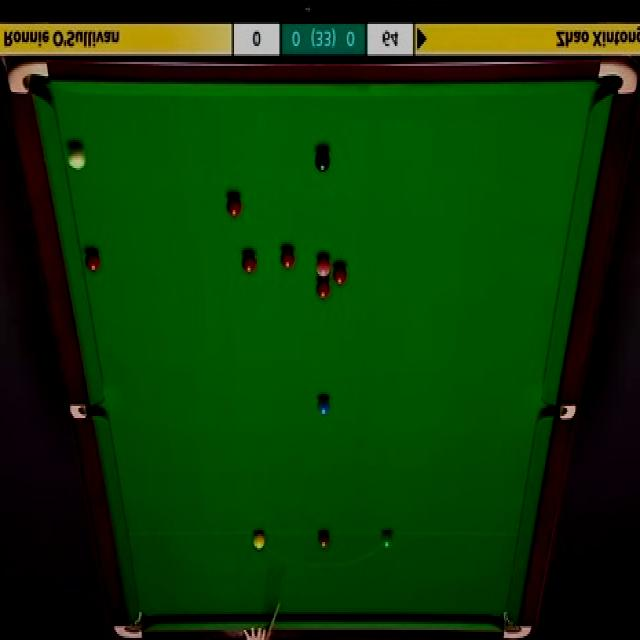black-ball: (315, 149, 331, 172)
blue-ball: (316, 398, 331, 415)
brown-ball: (318, 534, 330, 548)
green-ball: (380, 530, 395, 552)
pink-ball: (316, 254, 330, 279)
red-ball: (226, 192, 242, 220), (281, 246, 296, 272), (85, 255, 102, 274), (242, 253, 258, 272), (315, 279, 330, 299), (332, 264, 346, 285)
white-ball: (66, 145, 87, 171)
yellow-ball: (253, 530, 265, 550)
